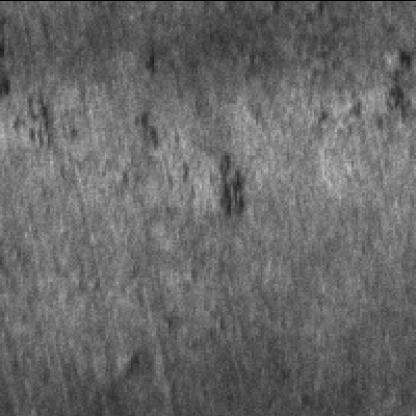rolled-in_scale: (122, 110, 250, 223), (304, 42, 414, 144), (0, 58, 54, 152)
